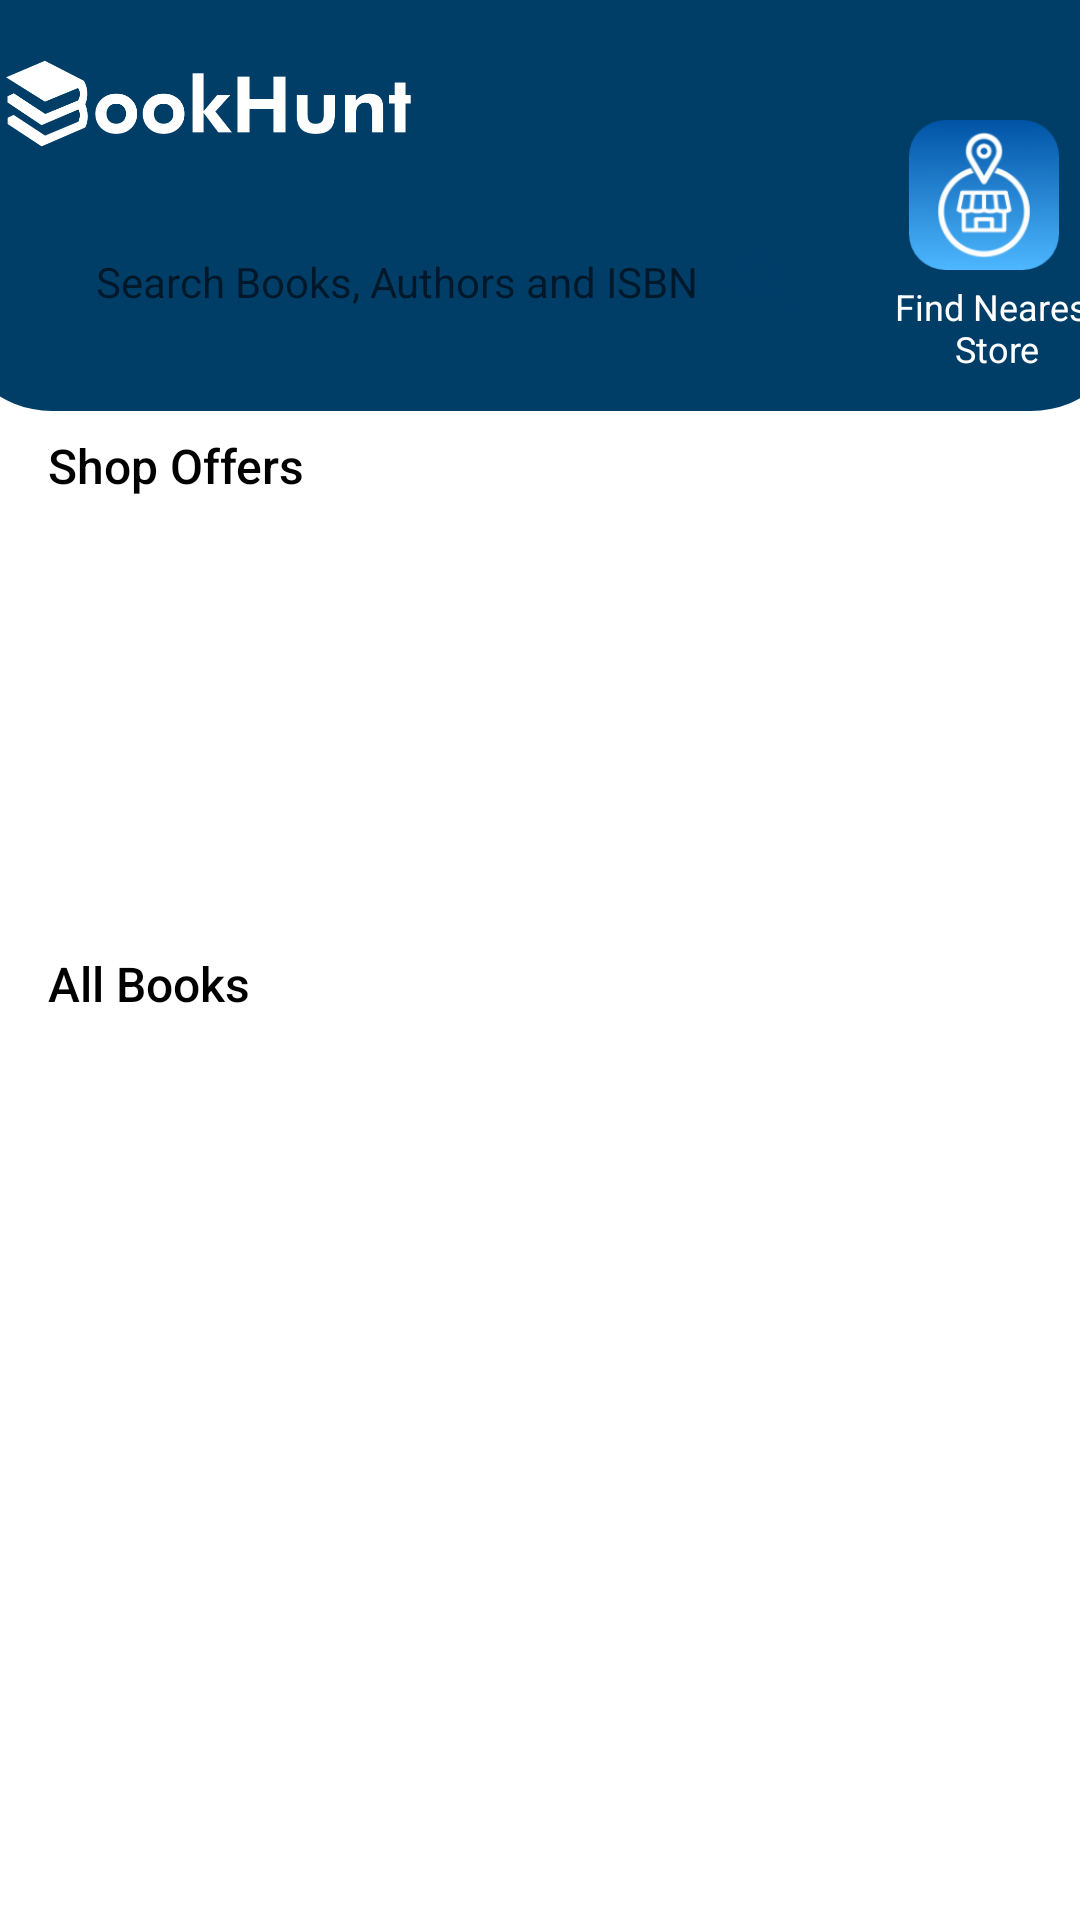

Where to tap for icons on this 1080 × 1920 app screen, as [x,y]:
location find: [984,195]
